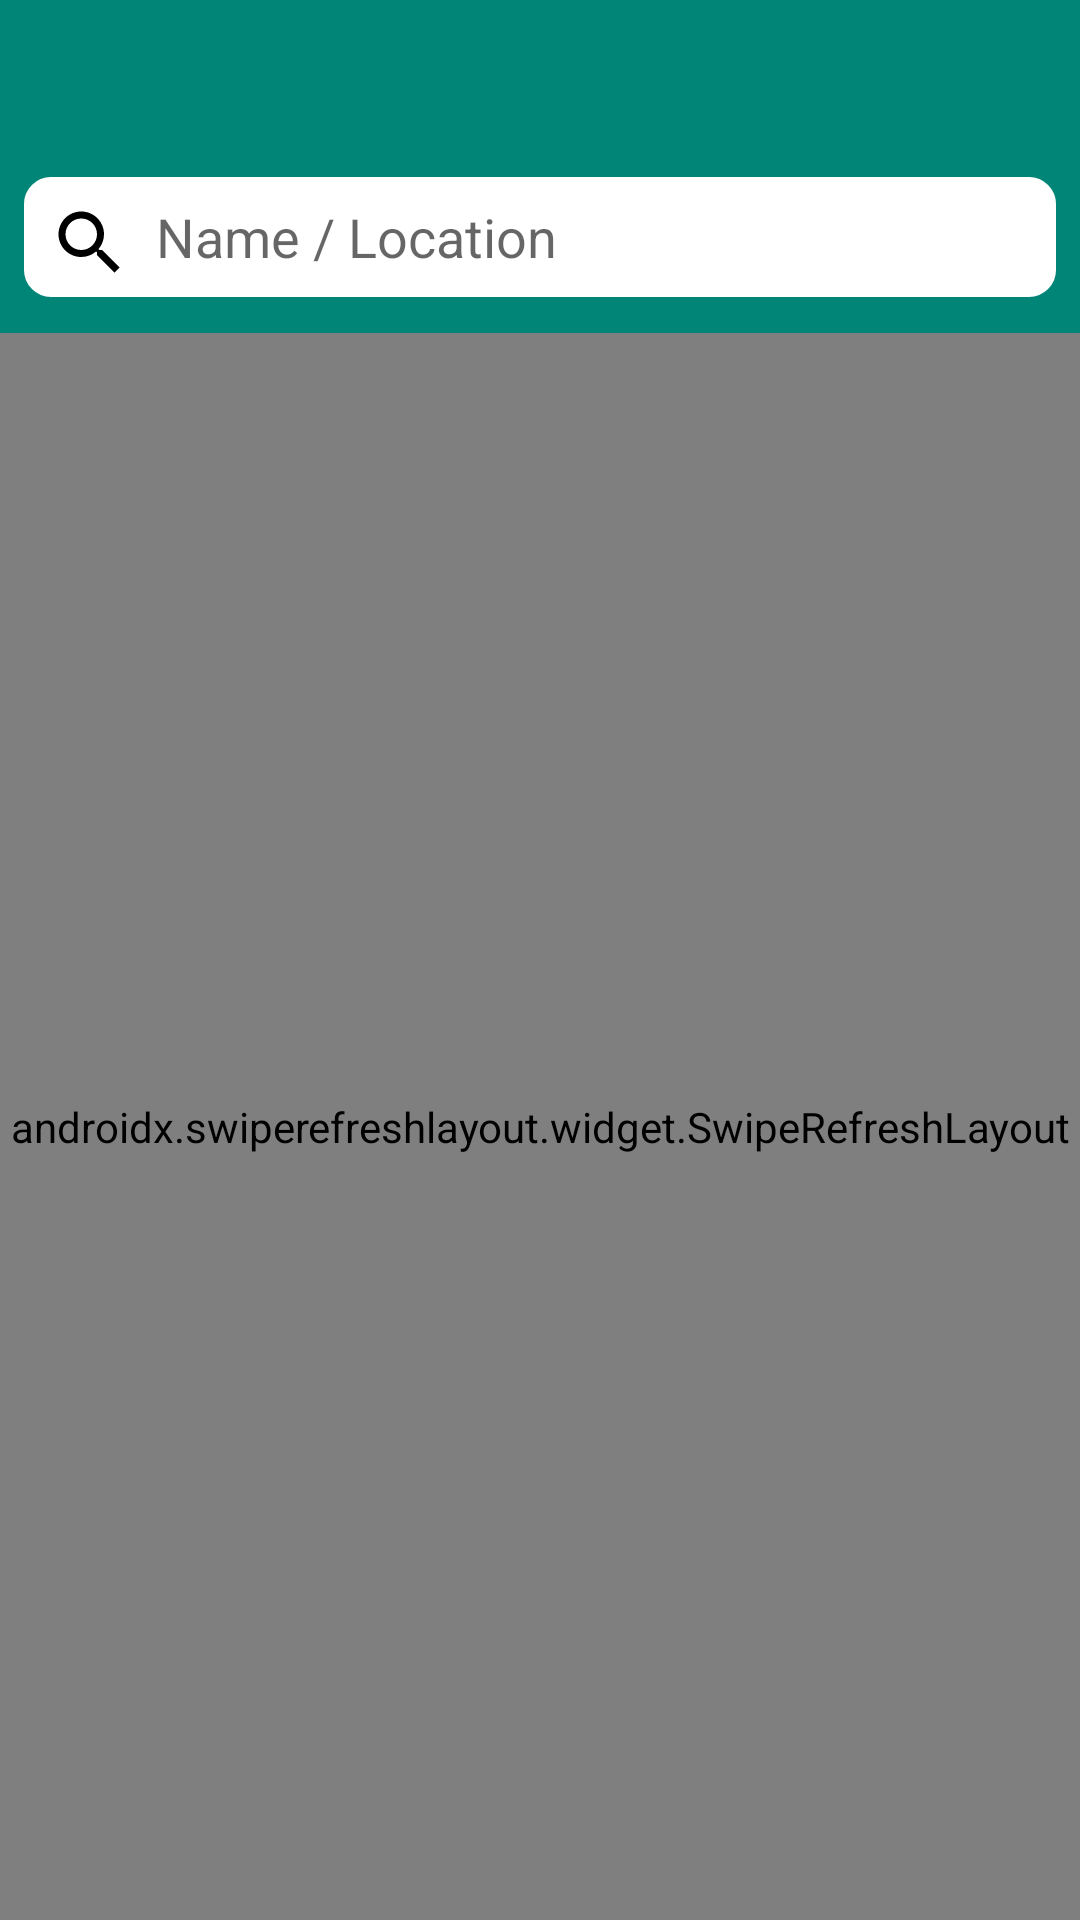

Icon click points for this 1080w x 1920h phone screenshot, format point (x, y):
search: point (89, 242)
